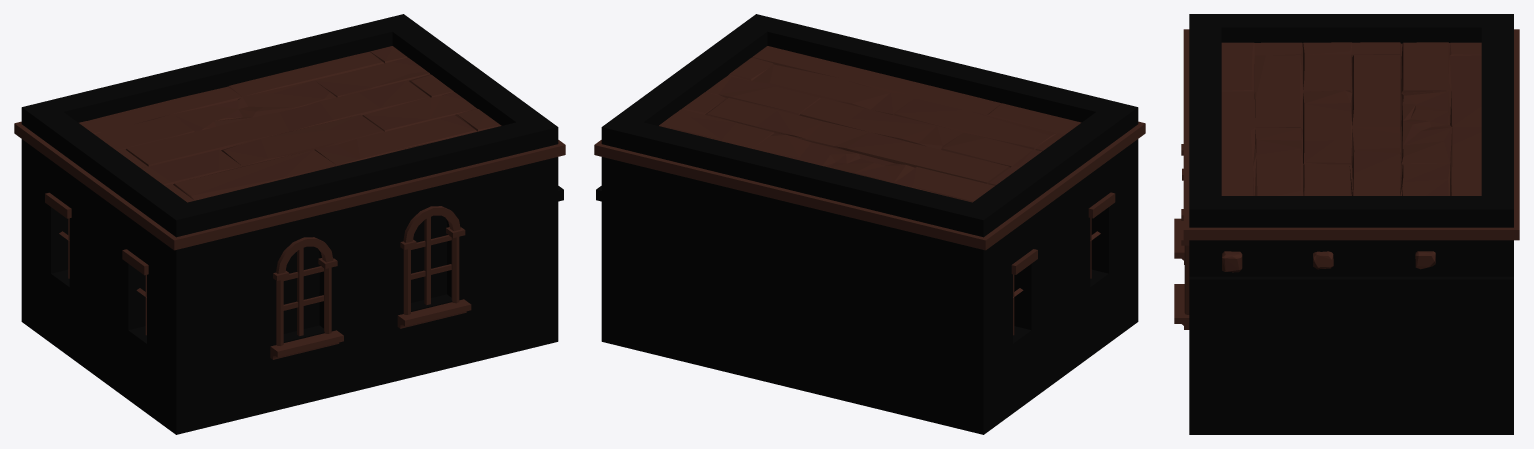
Rendered from roof_building_12.FBX.
3 views of the same model, side by side, from view 1: azimuth 30°, elevation 25°; view 2: azimuth 150°, elevation 25°; view 3: azimuth 270°, elevation 25° (orthographic). The views are drawn at different scales.
Visible parts, largest first — view 1: roof_building_12; view 2: roof_building_12; view 3: roof_building_12.
Part boxes in pixels (x1=…): roof_building_12: x1=14, y1=14, x2=565, y2=434; roof_building_12: x1=594, y1=14, x2=1145, y2=434; roof_building_12: x1=1174, y1=14, x2=1519, y2=434.
Size of the model in its own units: 830 by 430 by 597.
